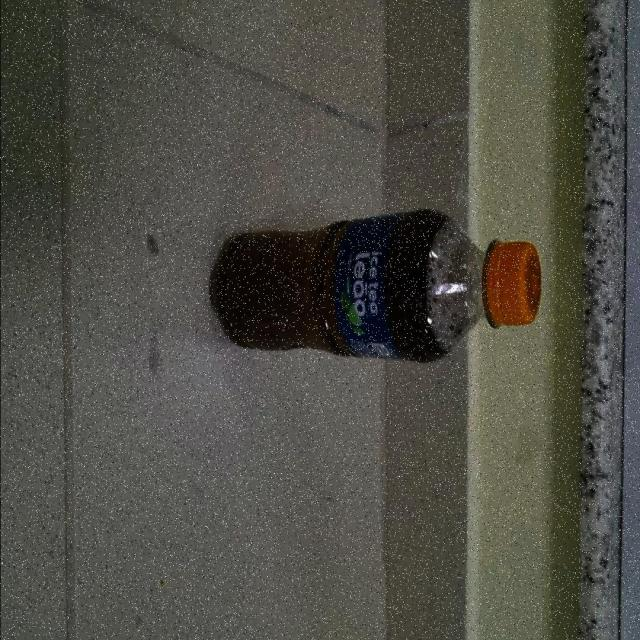IceTea: (208, 208, 540, 364)
